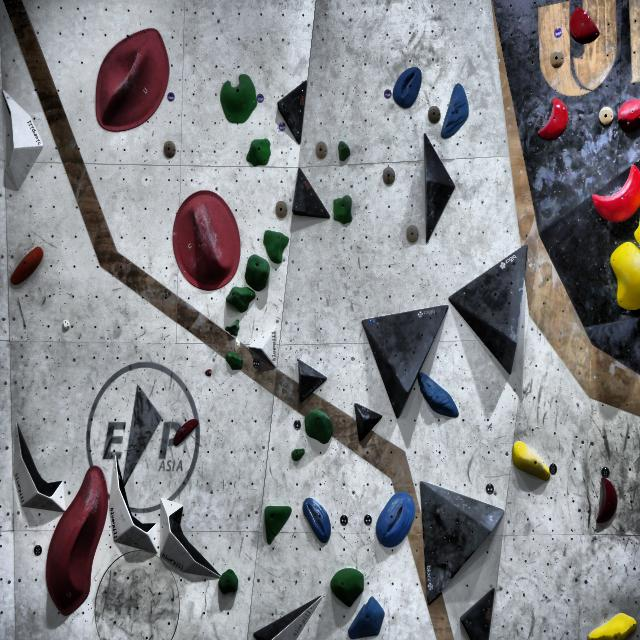Hold: (48, 458, 112, 620), (167, 187, 243, 290), (96, 28, 168, 134), (592, 160, 640, 223), (439, 72, 478, 144), (371, 488, 417, 548), (7, 239, 52, 300), (603, 237, 640, 311), (215, 78, 259, 130), (583, 603, 639, 640), (419, 373, 462, 421), (258, 498, 294, 550), (346, 594, 386, 640), (508, 442, 553, 482), (303, 491, 336, 544), (535, 98, 575, 140), (294, 357, 329, 403), (250, 325, 286, 369), (327, 568, 366, 608), (393, 58, 421, 109), (564, 7, 600, 44), (594, 476, 616, 532), (352, 401, 382, 439), (301, 408, 334, 442), (615, 90, 640, 131), (245, 251, 269, 291), (244, 135, 273, 168), (262, 228, 288, 263), (217, 564, 243, 598), (330, 193, 354, 227), (219, 289, 258, 308), (225, 351, 247, 374), (337, 136, 353, 166), (289, 451, 314, 466), (224, 320, 244, 338)
